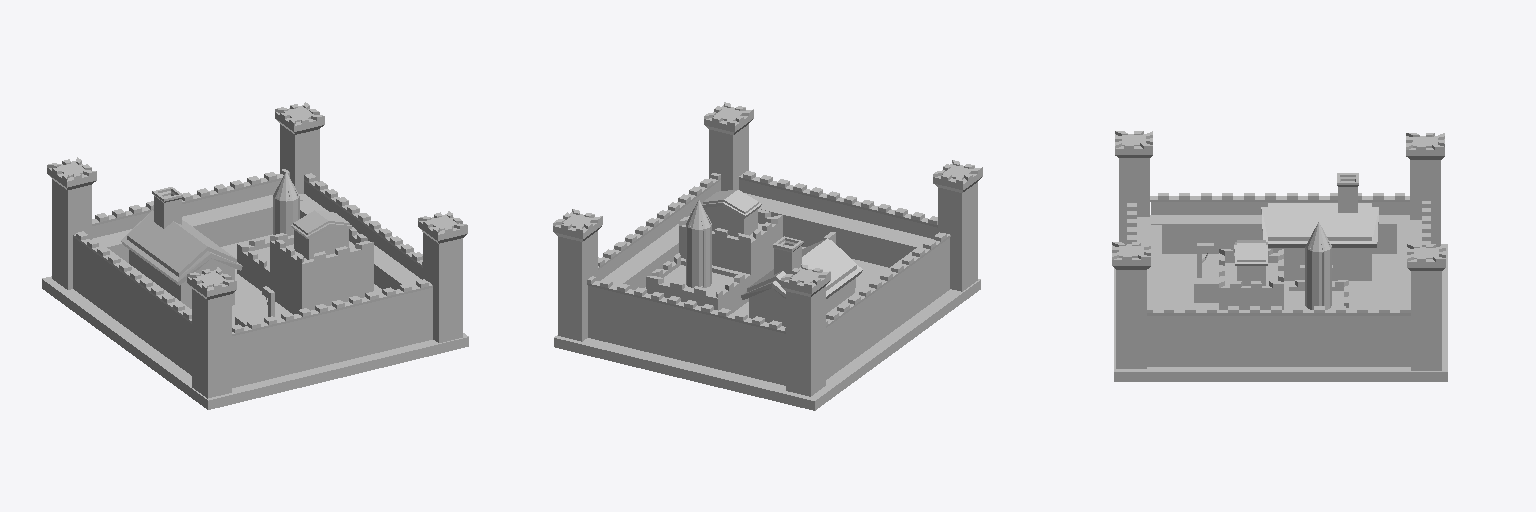
Rendered from Castle.obj.
The picture shows the model from 3 angles: view 1: azimuth 30°, elevation 25°; view 2: azimuth 150°, elevation 25°; view 3: azimuth 270°, elevation 25°; orthographic projection.
Parts seen in each view (by area): view 1: Castle_Cube; view 2: Castle_Cube; view 3: Castle_Cube.
Part boxes in pixels (x1,y1,x2,y2): Castle_Cube: (42,102,468,409); Castle_Cube: (553,102,982,410); Castle_Cube: (1112,131,1447,381).
Bounding box in the file's own units: 27.35 × 12.24 × 30.05.